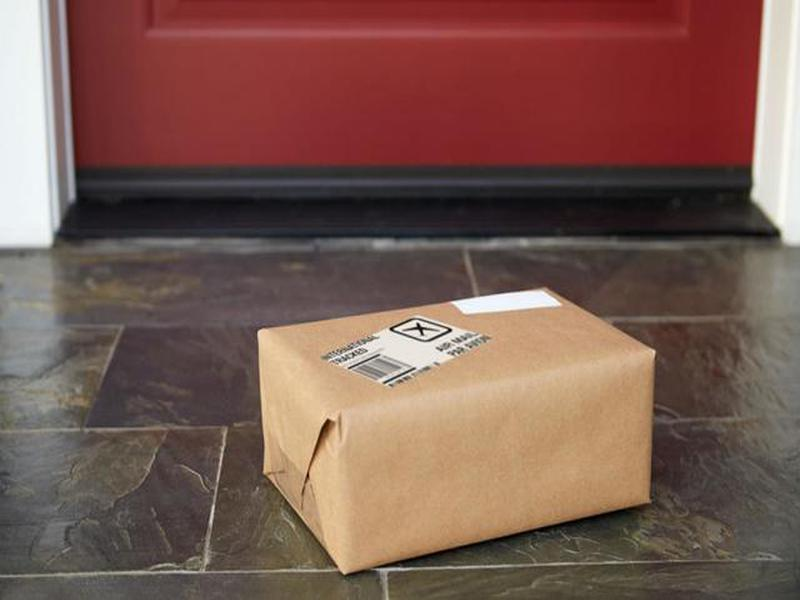package: (247, 276, 663, 581)
